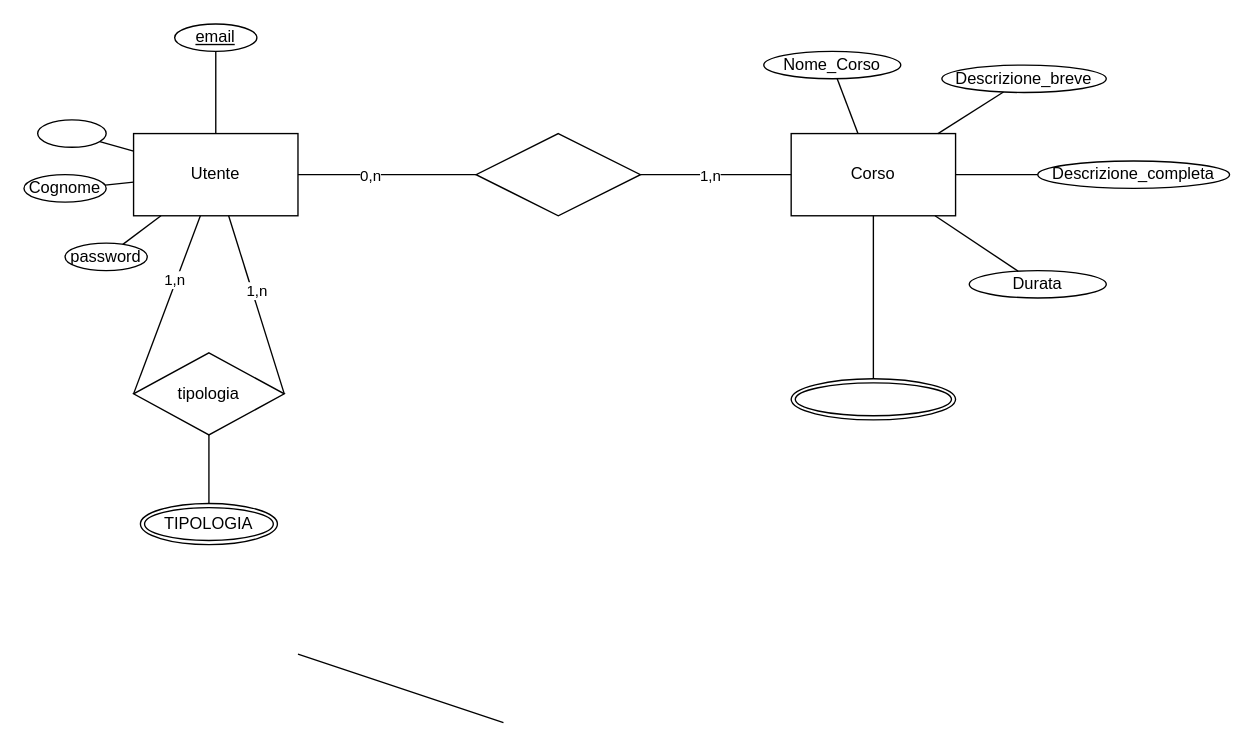
Image size: 1254x748. Some labels were removed from this diagram. The shapes that lost their labels are listed below. From the top down, each one's box as (x1, y1, x2, y2) in pixels, then its label:
(36, 119, 106, 147): Nome
(475, 132, 640, 216): iscrizione
(790, 377, 956, 420): Nome_Categoria
